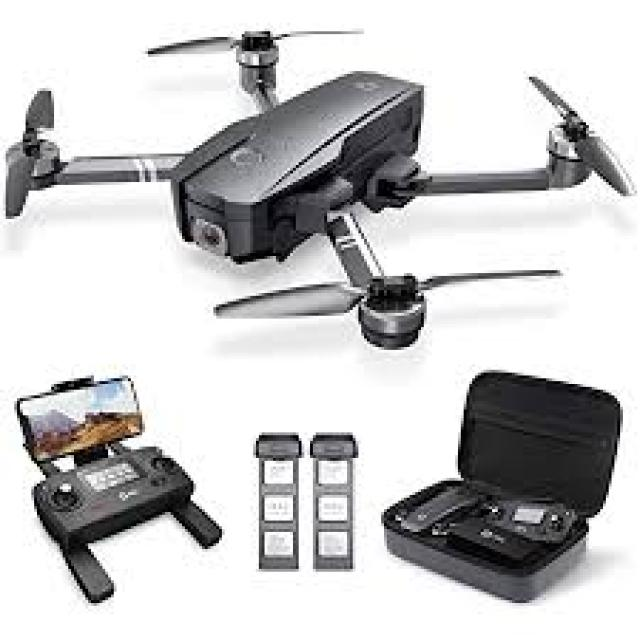drone: (0, 0, 640, 358)
